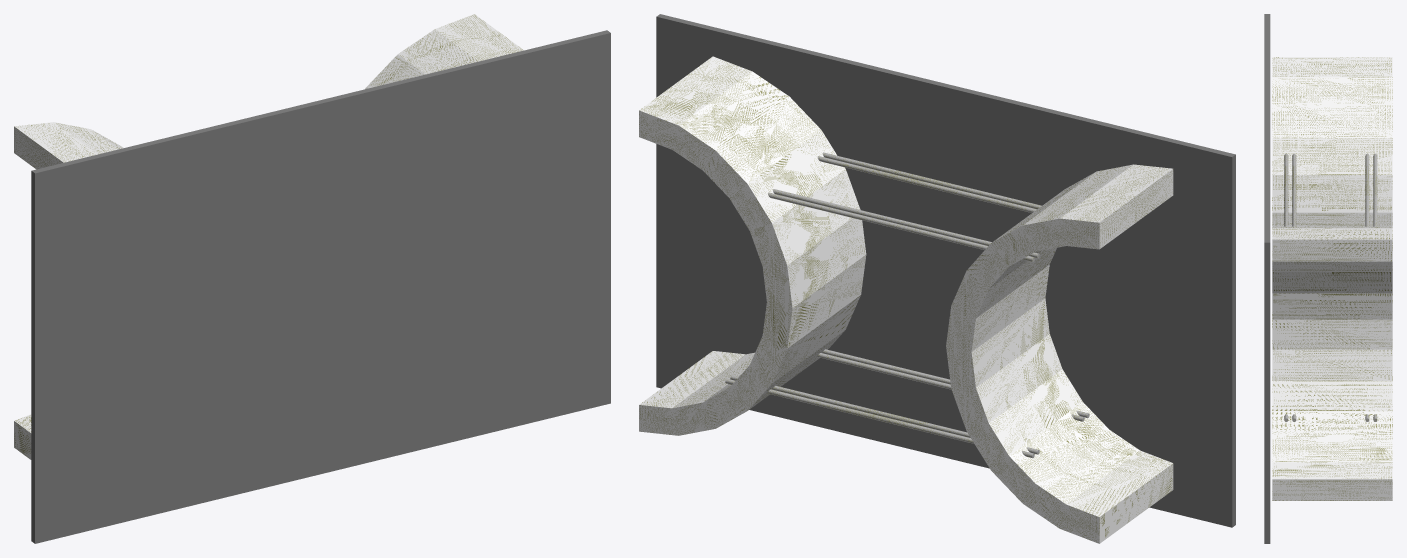
3 renders of one model, left to right at view 1: azimuth 30°, elevation 25°; view 2: azimuth 150°, elevation 25°; view 3: azimuth 270°, elevation 25°, orthographic. The views are drawn at different scales.
Parts seen in each view (by area): view 1: coffee table wood steel amp glass; view 2: coffee table wood steel amp glass; view 3: coffee table wood steel amp glass.
Boxes of the visible parts, x1,y1,x2,y2 form: coffee table wood steel amp glass: (14,14,610,543); coffee table wood steel amp glass: (639,14,1235,543); coffee table wood steel amp glass: (1264,14,1392,543).
Bounding box in the file's own units: 67.53 × 41.53 × 16.
